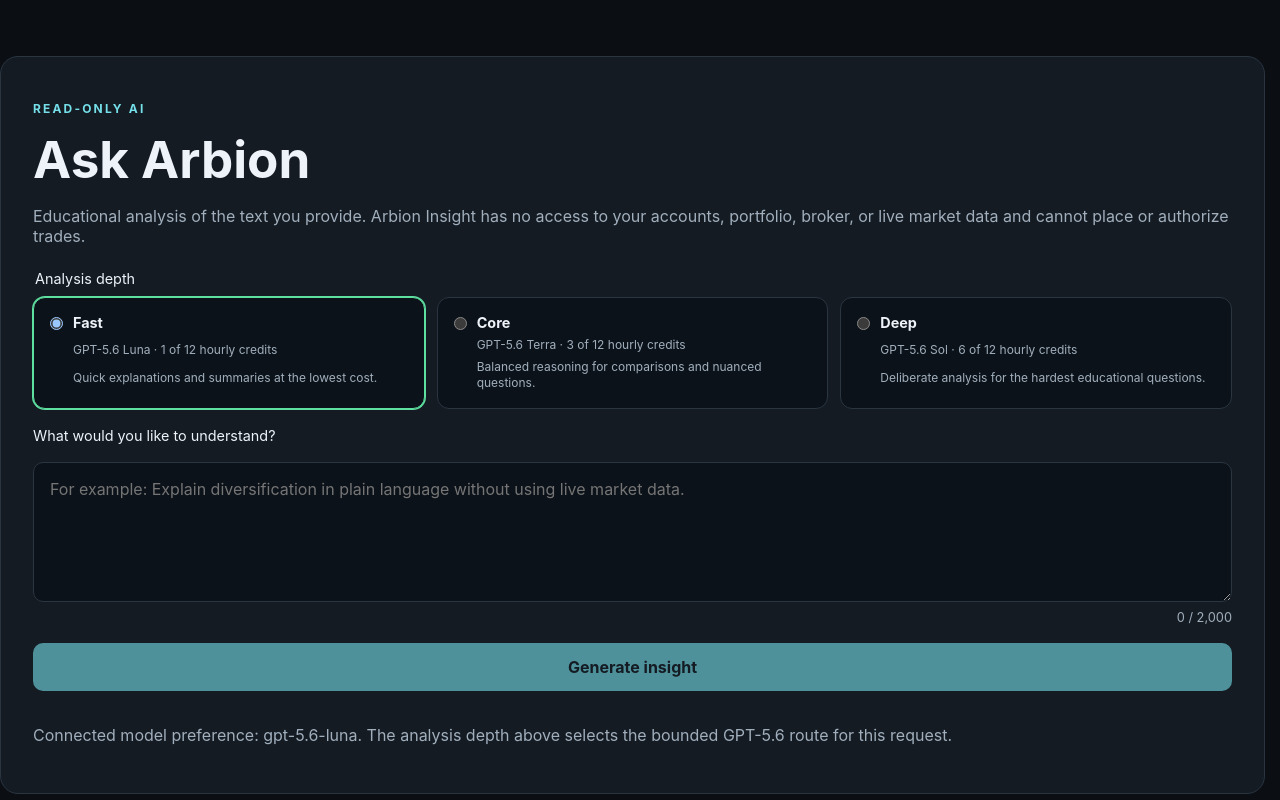
it: InsightPanel › submits only the typed prompt and renders structured output
Click the radio button labelled "Core": (460, 324) 454,317 -> 467,330
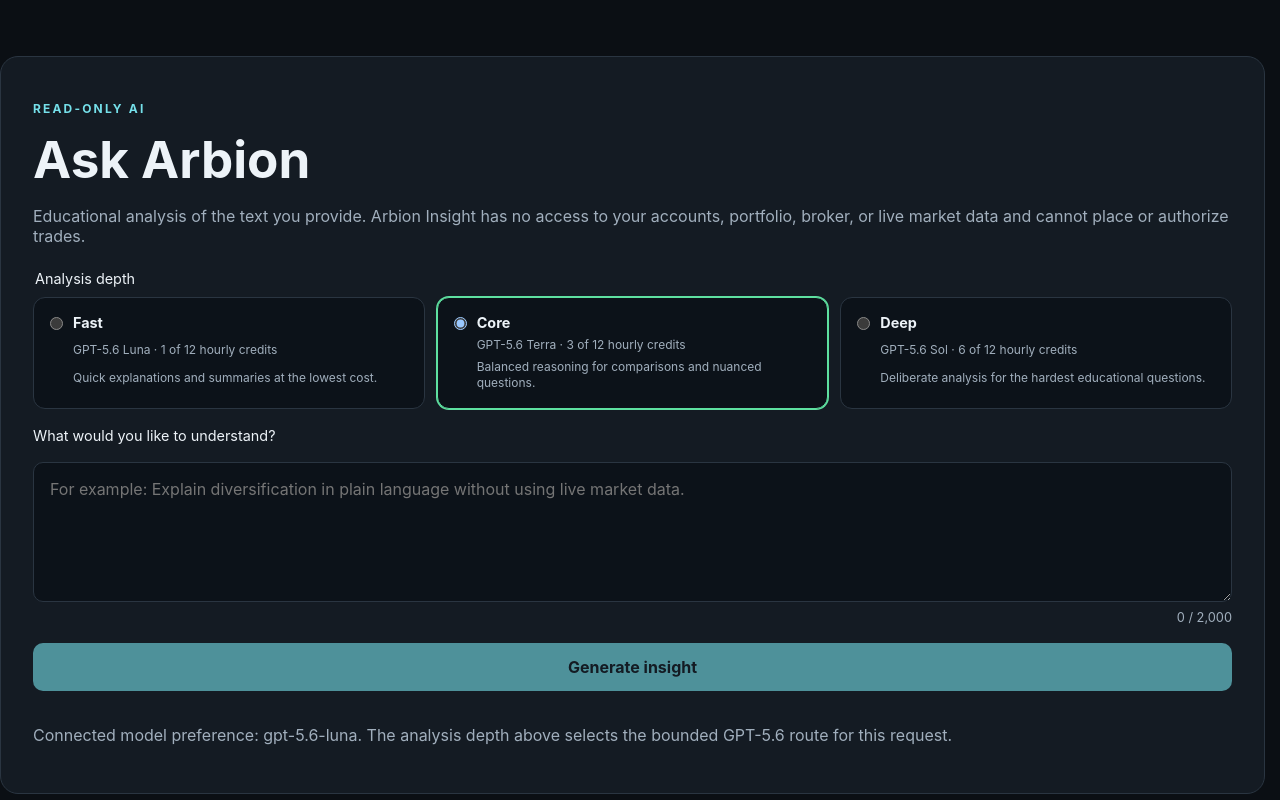
Replace the text in the text box labelled "What would you like to understand?" with "Explain diversification": (632, 532) 33,462 -> 1232,602
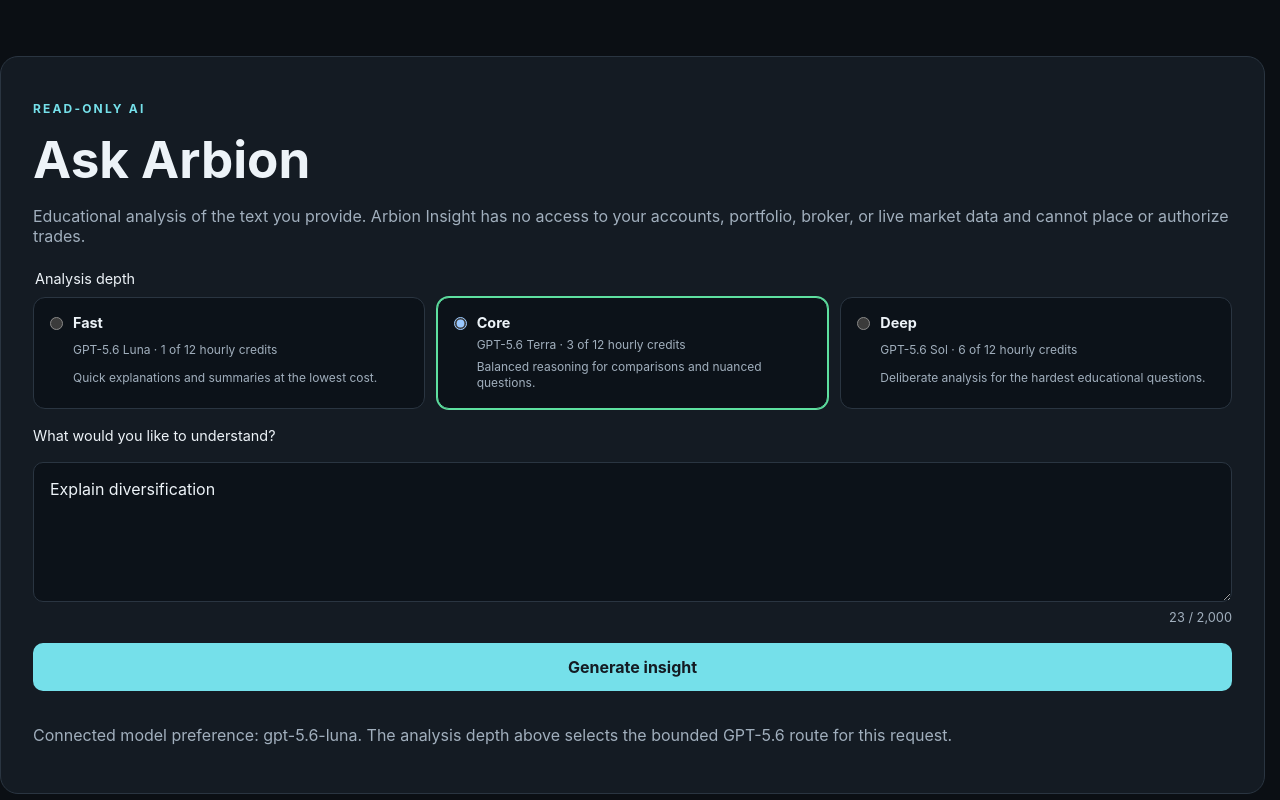
Click the button "Generate insight": (632, 667) 33,643 -> 1232,691
(page scrolled)
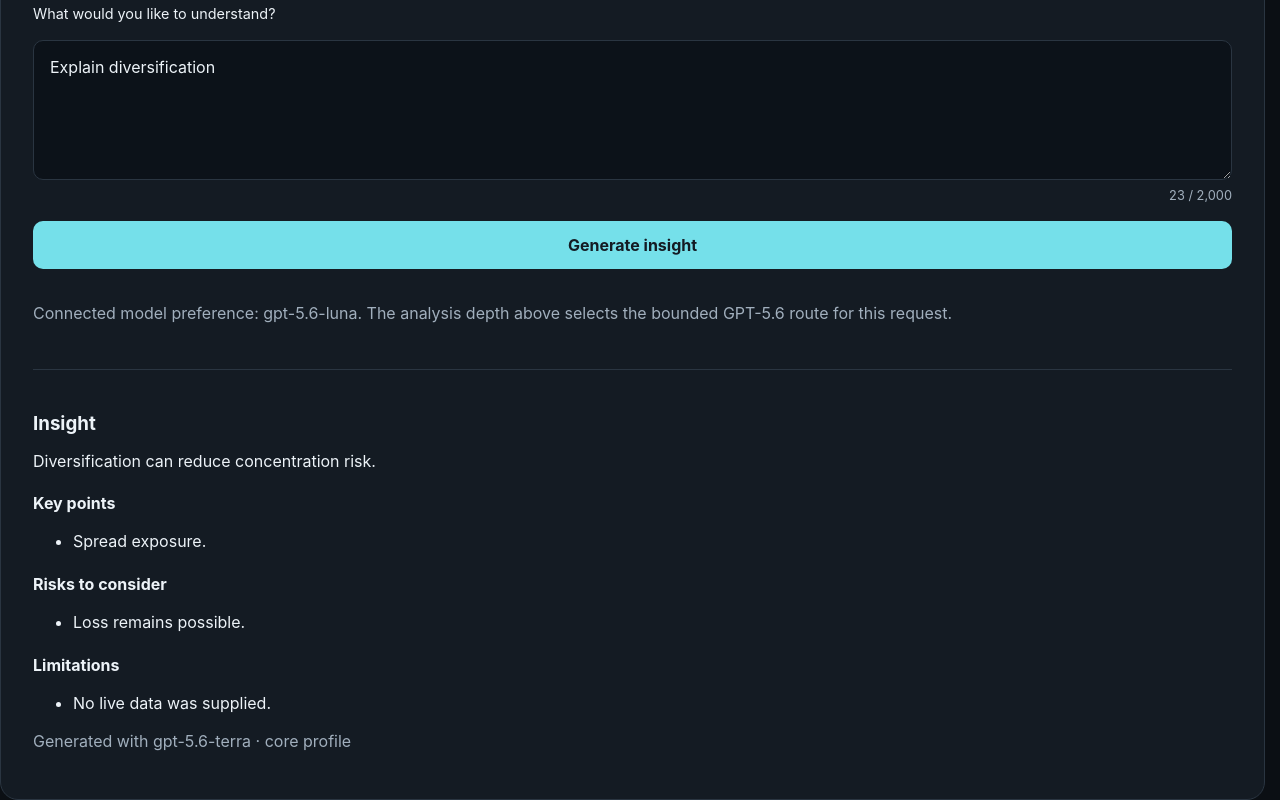
Check: the text "Diversification can reduce concentration risk." is shown, box 33,451 -> 376,471
Check: the list item "Spread exposure." is shown, box 73,530 -> 206,550
Check: the list item "Loss remains possible." is shown, box 73,612 -> 245,632
